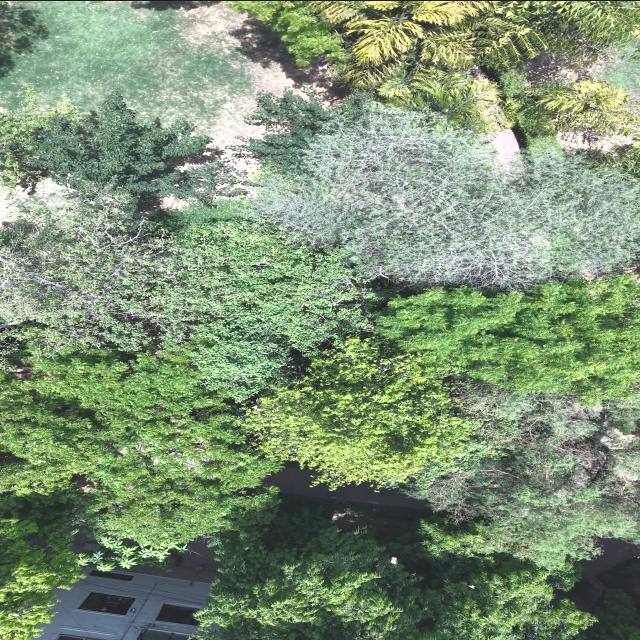DRY_AREA: (0, 1, 340, 149), (1, 1, 329, 147), (264, 467, 428, 539)
VEGETATION_TREE: (0, 1, 639, 639), (1, 181, 360, 551), (2, 192, 363, 556), (247, 276, 637, 568), (0, 193, 365, 400), (255, 100, 639, 287), (231, 1, 639, 153), (1, 350, 279, 569), (227, 1, 639, 146), (1, 351, 279, 546), (229, 1, 639, 130), (195, 512, 594, 639), (196, 518, 592, 639), (402, 379, 639, 568), (0, 1, 286, 145), (244, 338, 493, 487), (229, 1, 500, 131), (375, 275, 639, 404), (228, 1, 639, 67), (2, 98, 245, 202), (470, 1, 639, 150), (310, 1, 639, 68), (317, 1, 487, 78), (494, 64, 639, 154), (0, 494, 82, 639), (470, 1, 639, 65), (375, 66, 502, 133), (232, 91, 332, 174), (227, 1, 344, 66), (0, 90, 78, 187), (527, 79, 639, 135), (493, 63, 560, 153), (575, 560, 639, 639), (79, 536, 187, 571), (0, 1, 48, 76), (574, 589, 639, 639), (593, 49, 639, 95), (585, 142, 639, 179)
